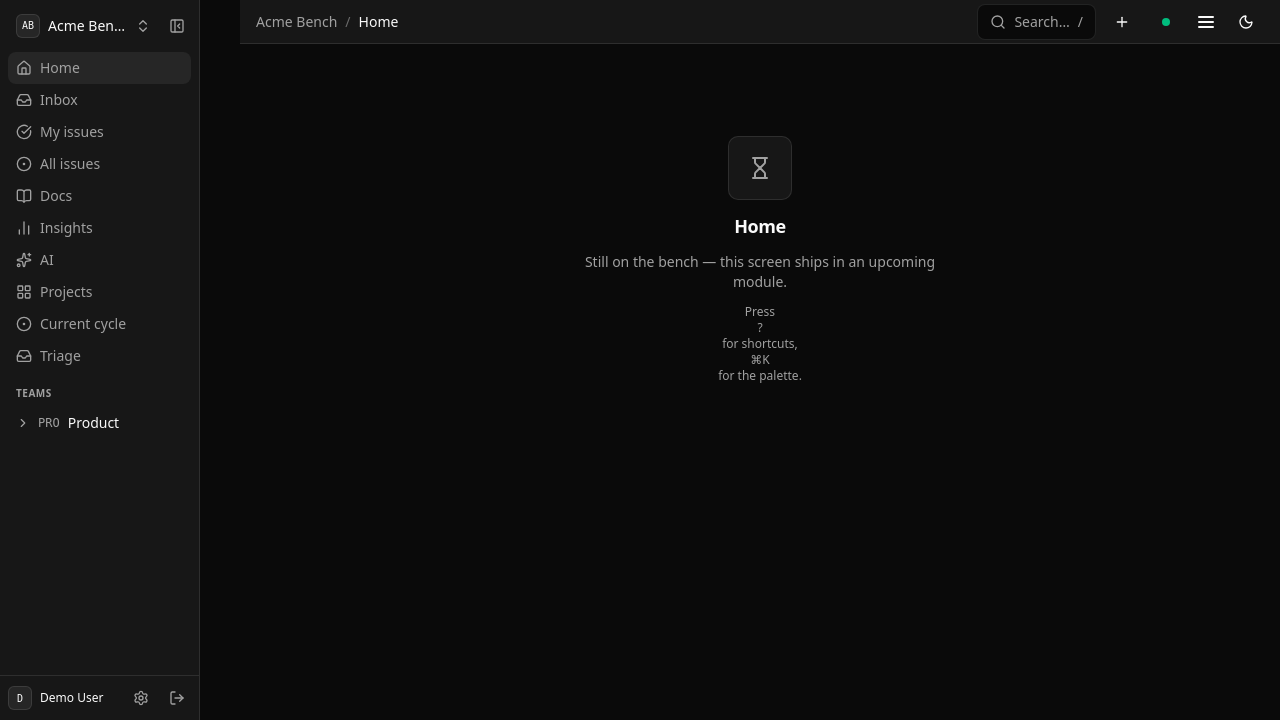
Test: close cycle › previews only the issues the server would roll
This screenshot has width=1280, height=720.
Click the link "Current cycle": (71, 324) [16,314,126,333]
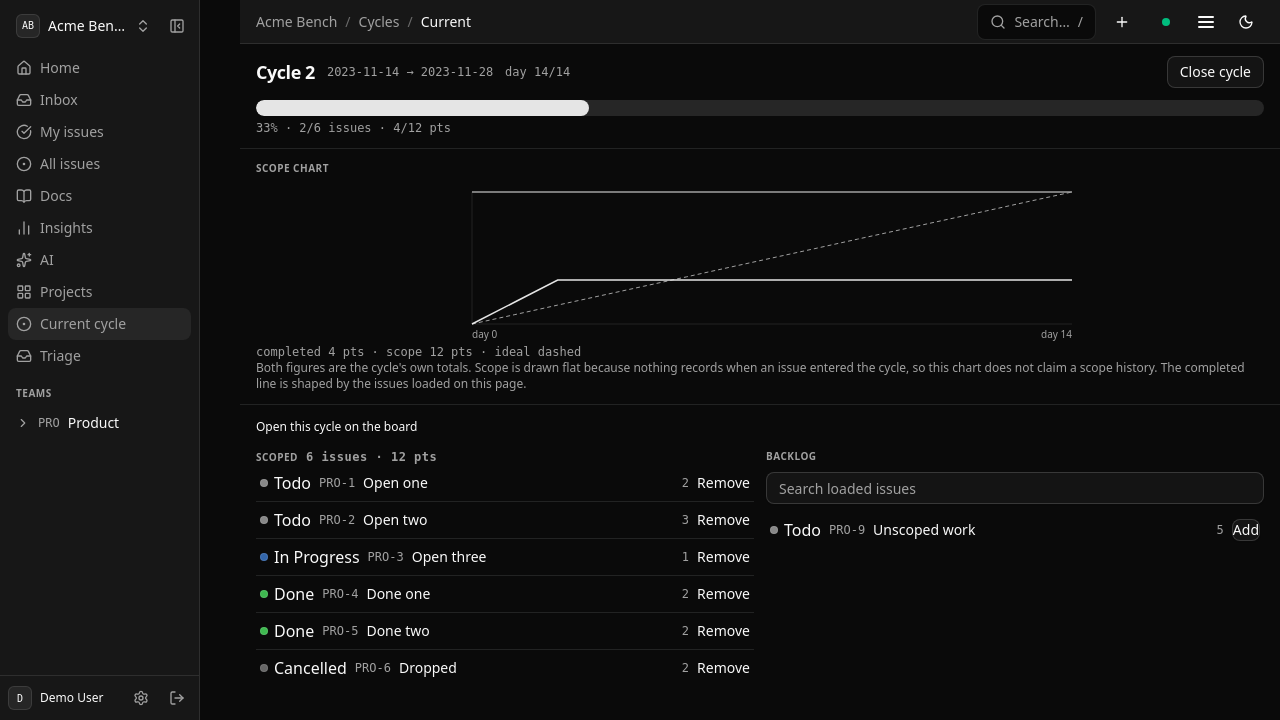
Click the button "Close cycle": (1215, 72) [1167,56,1264,88]
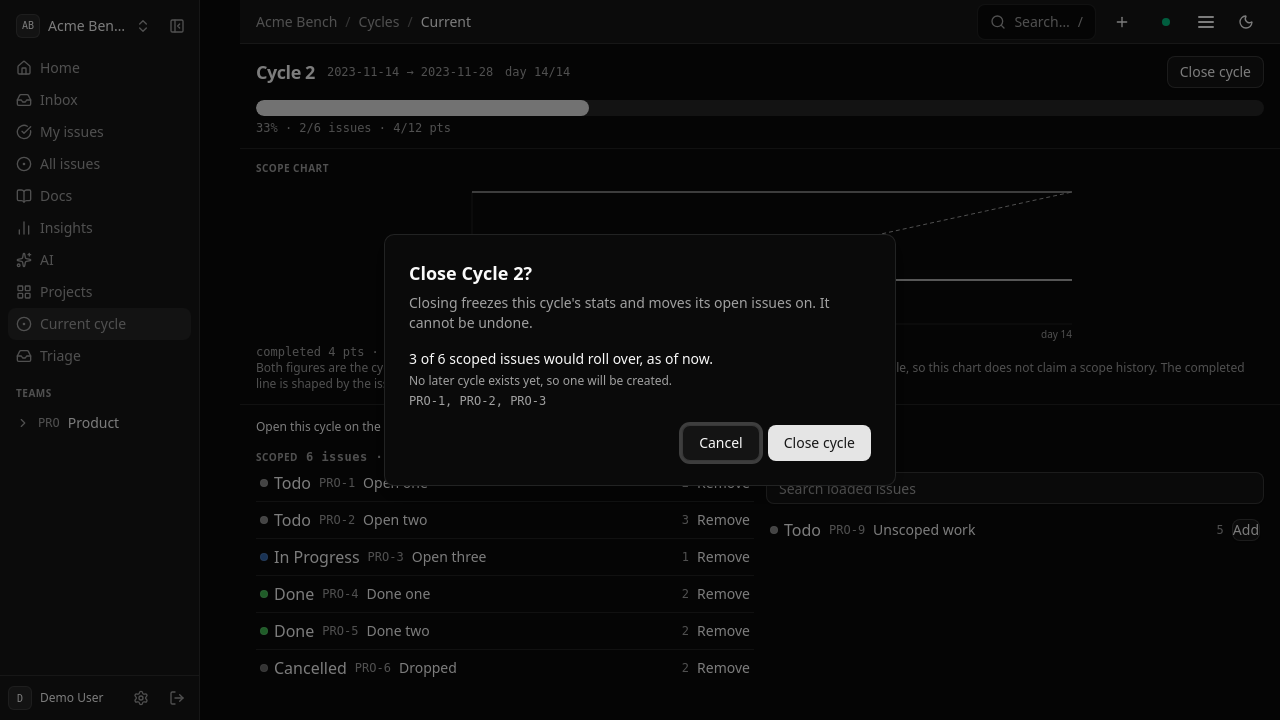
Expected: the text with test id "cy-rollover-preview" reads "3 of 6 scoped issues would roll over, as of now.", [409,349,713,368]
Click the button "Cancel": (721, 443) [682,425,760,461]
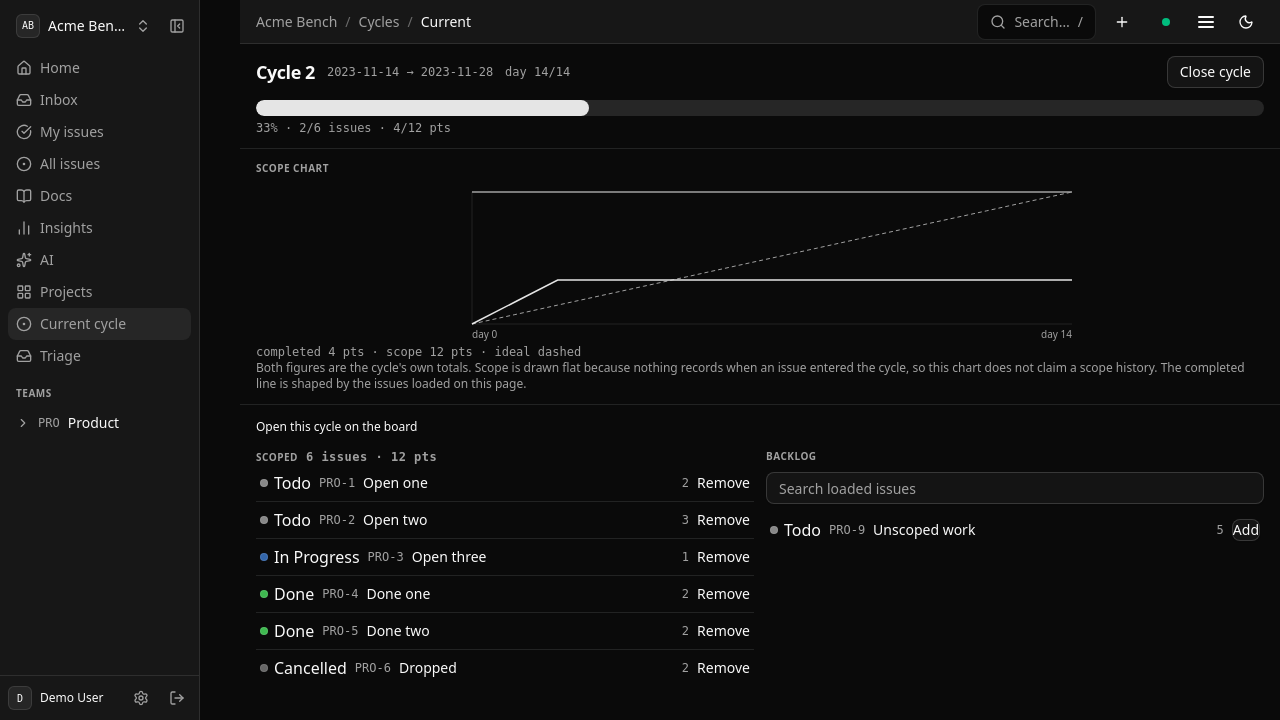
Expected: the text with test id "cy-rollover-preview" is gone
